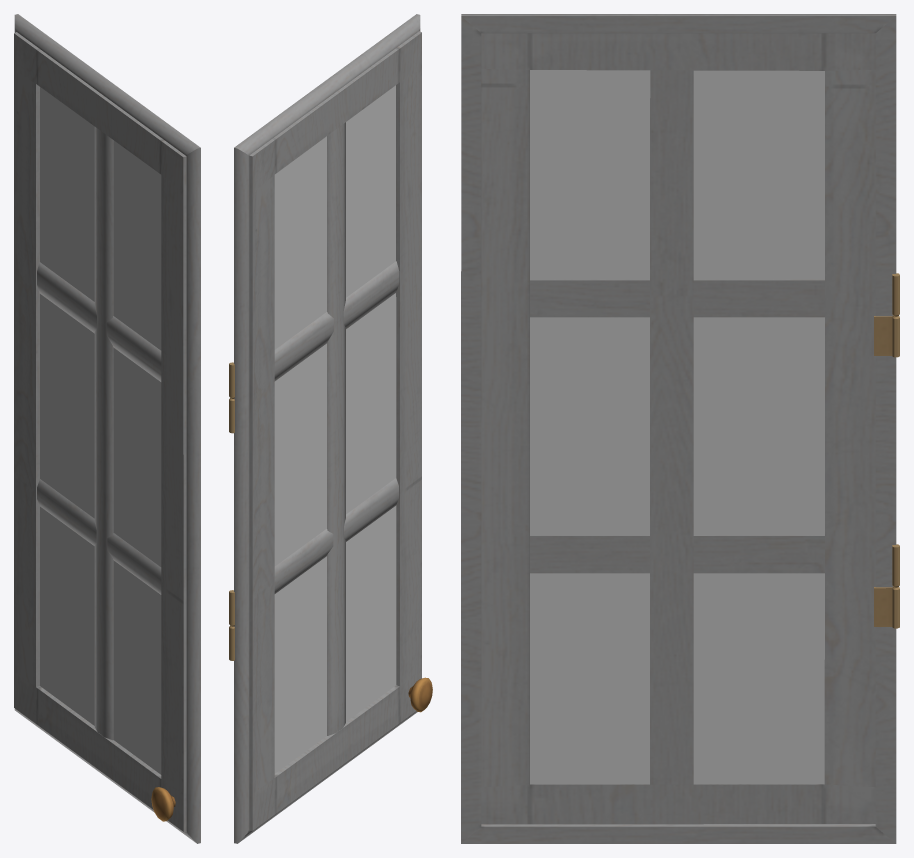
The model's file is SM_KitchenSet_B1_DoorB2.fbx.
3 views of the same model, side by side, from view 1: azimuth 30°, elevation 25°; view 2: azimuth 150°, elevation 25°; view 3: azimuth 270°, elevation 25° (orthographic). The views are drawn at different scales.
Visible parts, largest first — view 1: SM_KitchenSet_B1_DoorB2; view 2: SM_KitchenSet_B1_DoorB2; view 3: SM_KitchenSet_B1_DoorB2.
Boxes of the visible parts, x1,y1,x2,y2 form: SM_KitchenSet_B1_DoorB2: (14,14,200,843); SM_KitchenSet_B1_DoorB2: (229,14,432,843); SM_KitchenSet_B1_DoorB2: (461,14,899,843).
Size of the model in its own units: 4.14 by 40.64 by 84.58.
3 materials, 2 textured.
